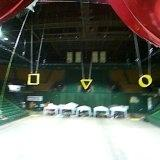Yellow_Circle_GShape: (139, 74, 152, 87)
Yellow_Square_GShape: (27, 73, 38, 85)
Yellow_Triangle_Gshape: (80, 79, 91, 91)
